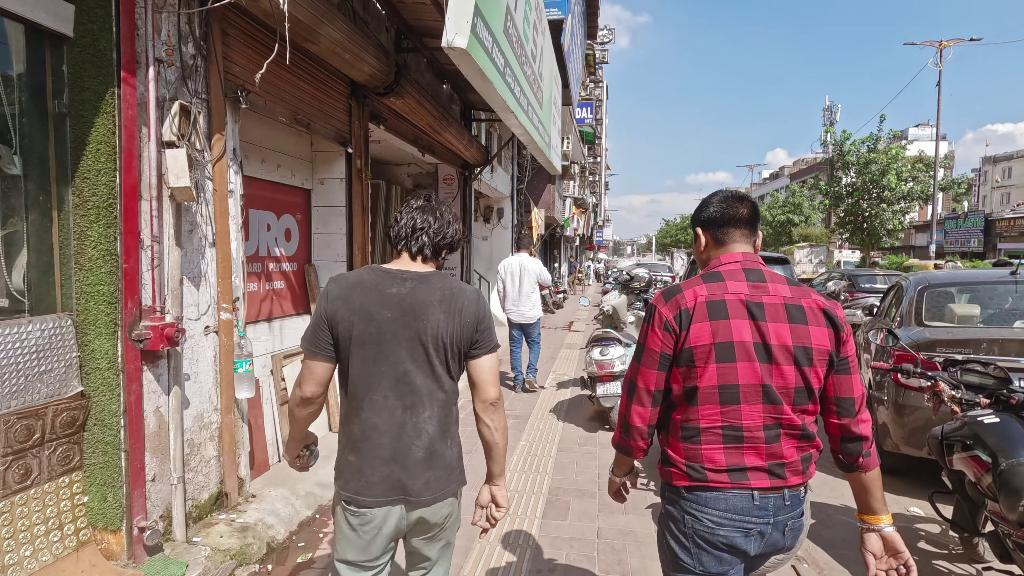garbage: (235, 317, 255, 403)
